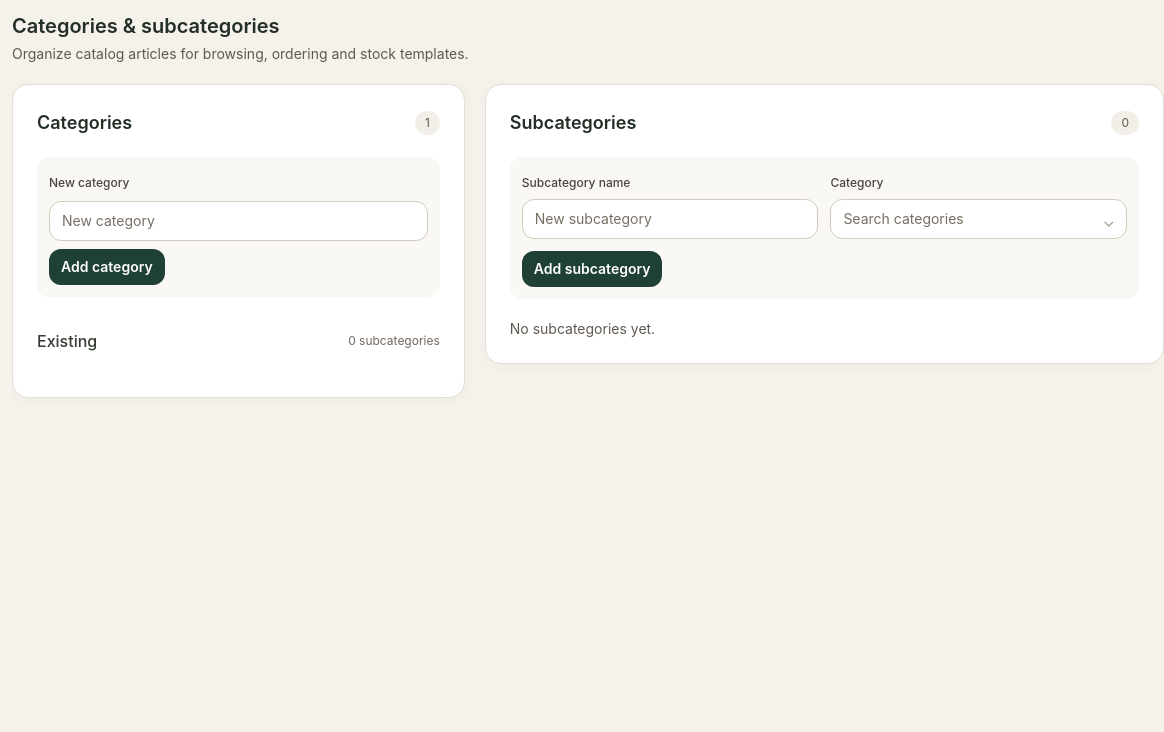
Test: uses catalog create authority without rewriting the loaded taxonomy
Expected: the text "Existing" is shown, x1=37 y1=329 x2=97 y2=353
Type "New" into the field with placeholder "New category".
click(238, 221); type("New")  # box x1=49 y1=201 x2=428 y2=241
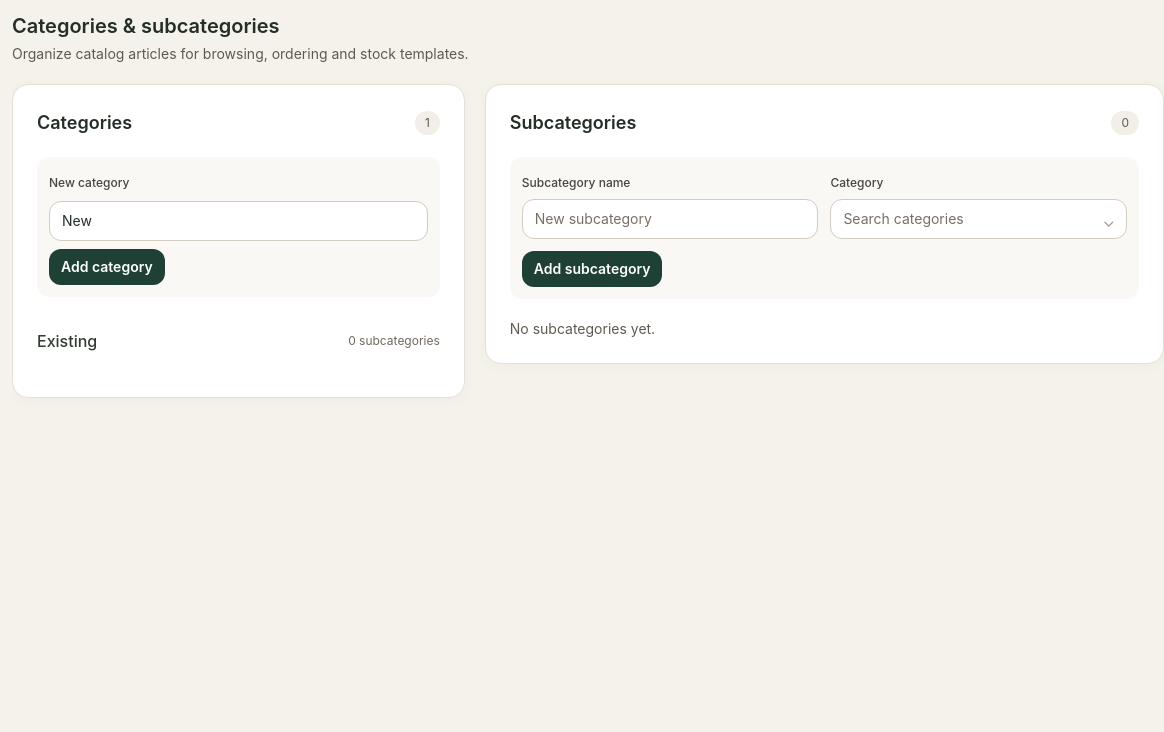
Click the button "Add category".
click(107, 267)  # box x1=49 y1=249 x2=165 y2=285
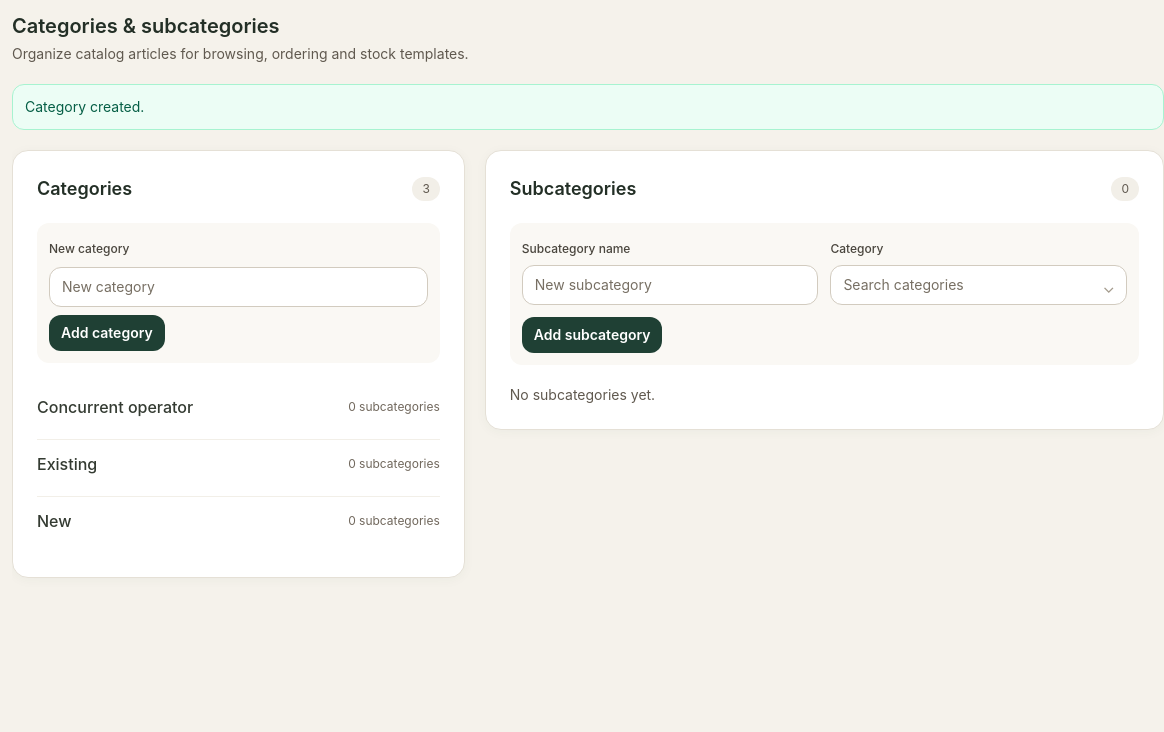
Result: the text "Concurrent operator" is shown at x1=37 y1=395 x2=193 y2=419
